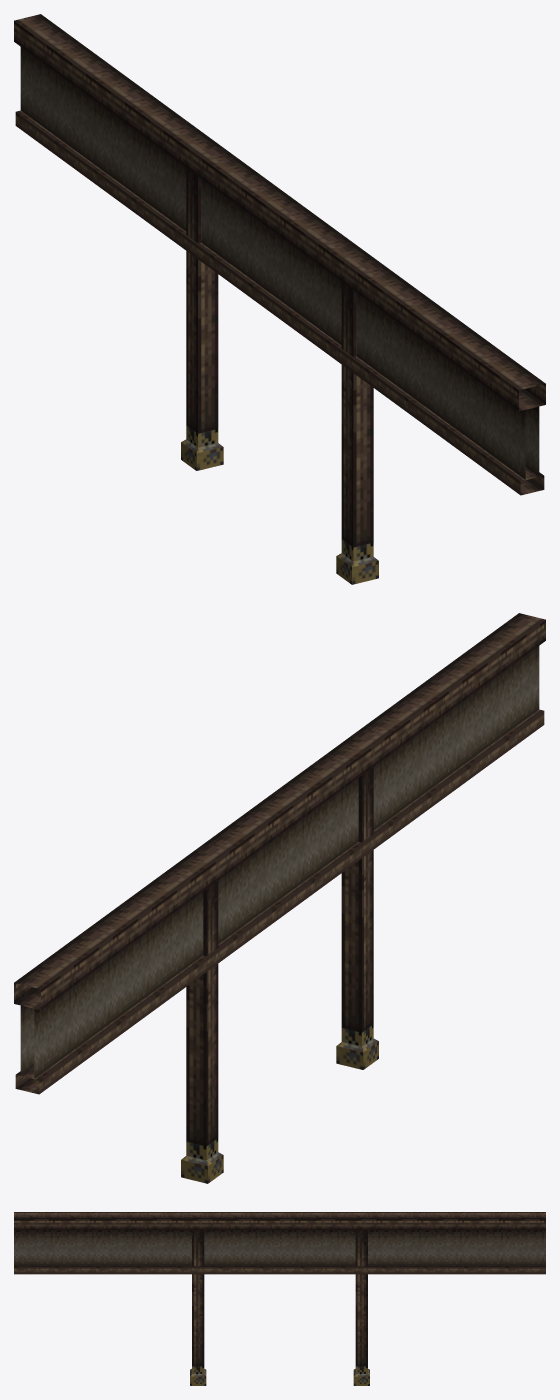
Rendered from EnvBdgMD_Desert_Dojo_A_Indoor_A_HarfDither_B.FBX.
The picture shows the model from 3 angles, top to bottom: view 1: azimuth 30°, elevation 25°; view 2: azimuth 150°, elevation 25°; view 3: azimuth 270°, elevation 25°; orthographic projection. The views are drawn at different scales.
Visible parts, largest first — view 1: EnvBdgMD_Desert_Dojo_A_Indoor_A_HarfDither_B; view 2: EnvBdgMD_Desert_Dojo_A_Indoor_A_HarfDither_B; view 3: EnvBdgMD_Desert_Dojo_A_Indoor_A_HarfDither_B.
Part boxes in pixels (x1,y1,x2,y2): EnvBdgMD_Desert_Dojo_A_Indoor_A_HarfDither_B: (14,14,545,584); EnvBdgMD_Desert_Dojo_A_Indoor_A_HarfDither_B: (14,613,545,1183); EnvBdgMD_Desert_Dojo_A_Indoor_A_HarfDither_B: (14,1212,545,1385).
Size of the model in its own units: 40 by 450 by 1300.
